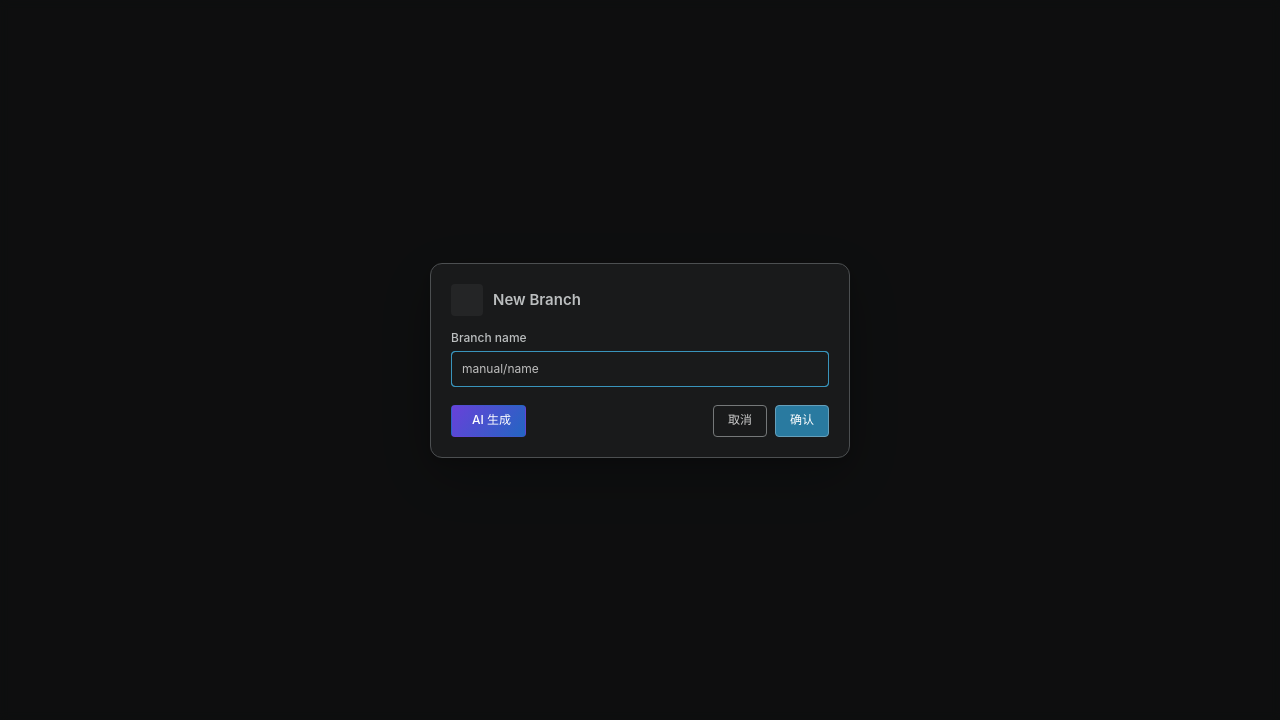
Test: AI branch name input › keeps the visible stop action usable and ignores late generation after stopping in zh-CN
The image size is (1280, 720).
Click the button "AI 生成" at (488, 420), box top-left (451, 404), bottom-right (526, 436)
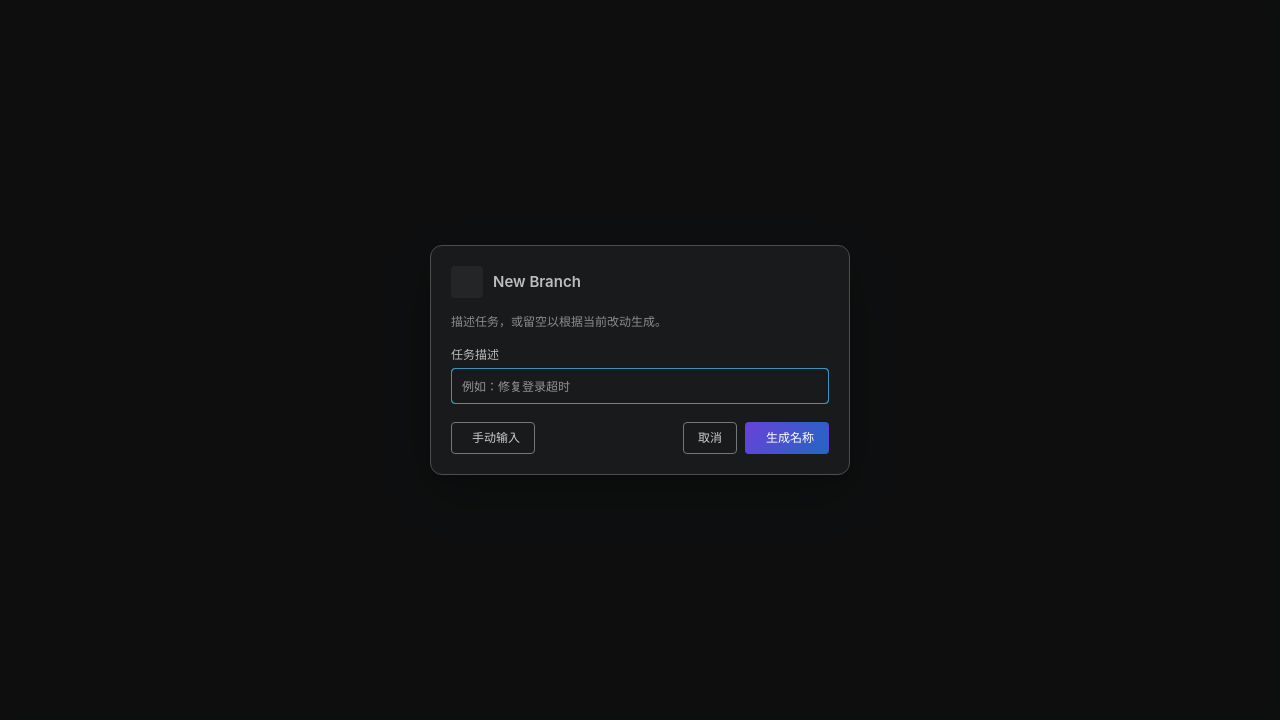
Check: the button "手动输入" is enabled, box top-left (451, 422), bottom-right (535, 454)
Click the button "生成名称" at (787, 438), box top-left (745, 422), bottom-right (829, 454)
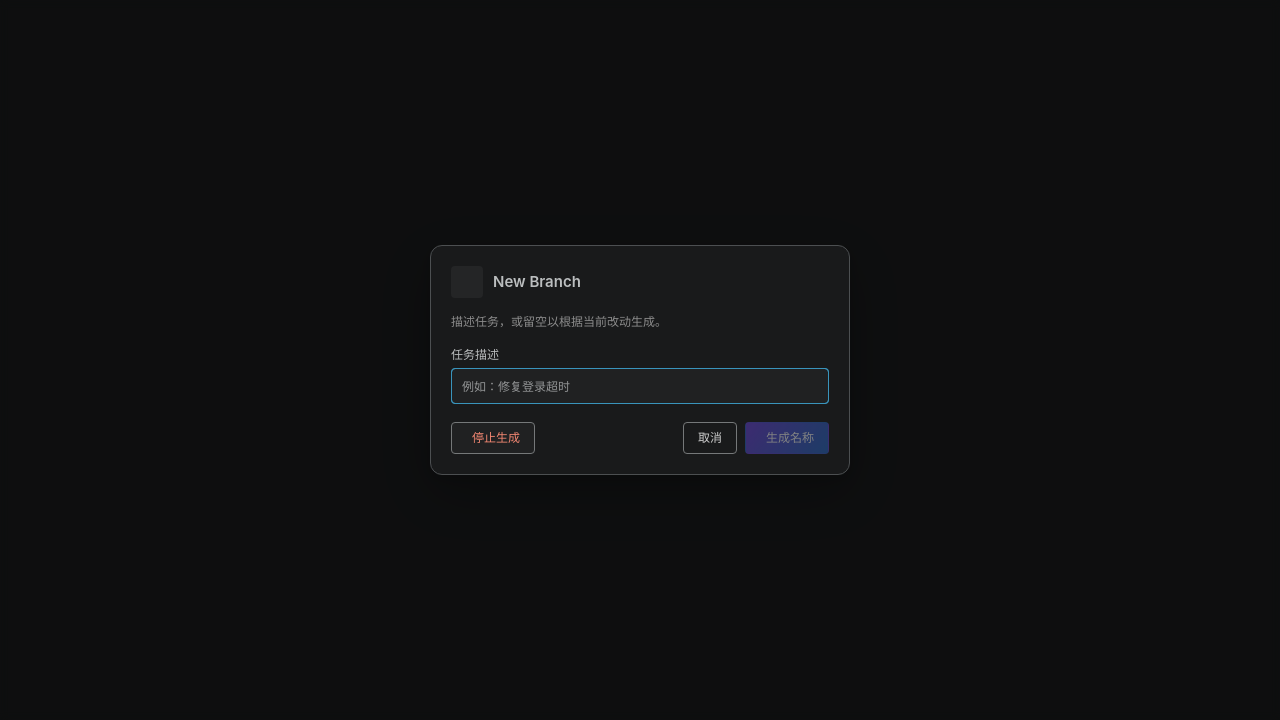
Check: the field labelled "任务描述" is enabled, box top-left (451, 368), bottom-right (829, 404)
Check: the button "生成名称" is disabled, box top-left (745, 422), bottom-right (829, 454)
Click the button "停止生成" at (493, 438), box top-left (451, 422), bottom-right (535, 454)
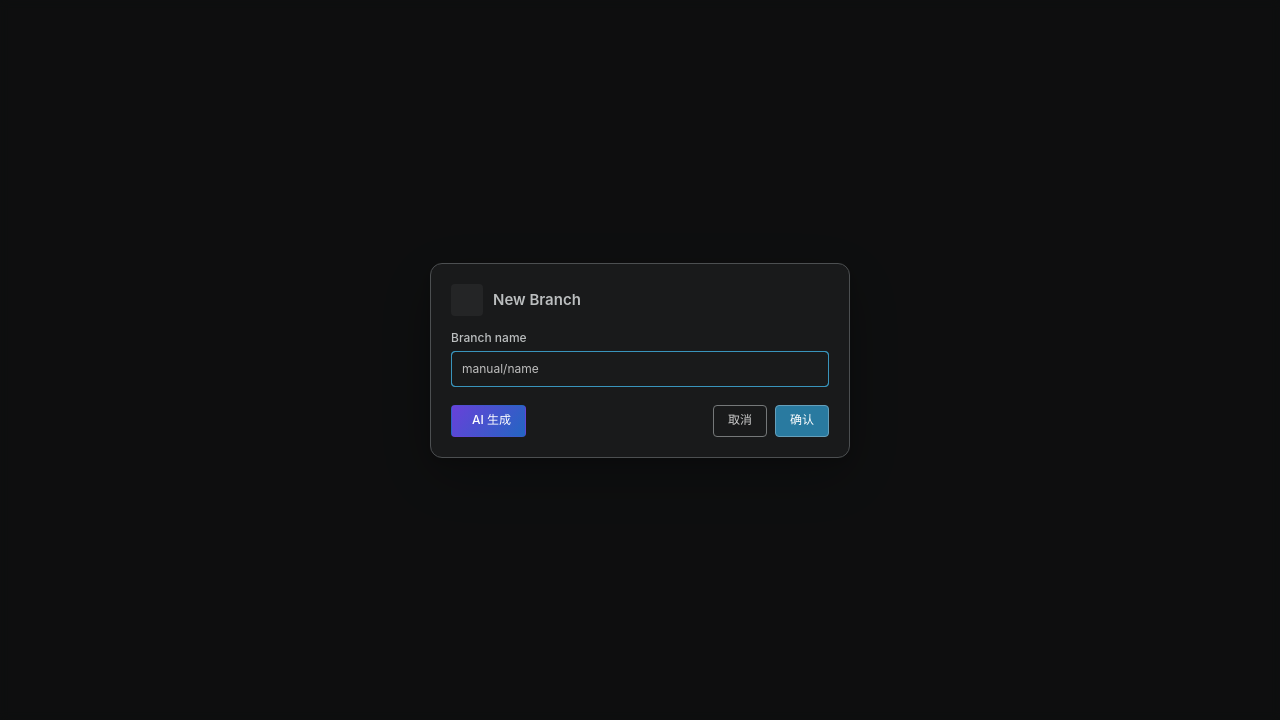
Check: the button "AI 生成" is enabled, box top-left (451, 404), bottom-right (526, 436)
Check: the field labelled "Branch name" holds "manual/name", box top-left (451, 350), bottom-right (829, 386)
